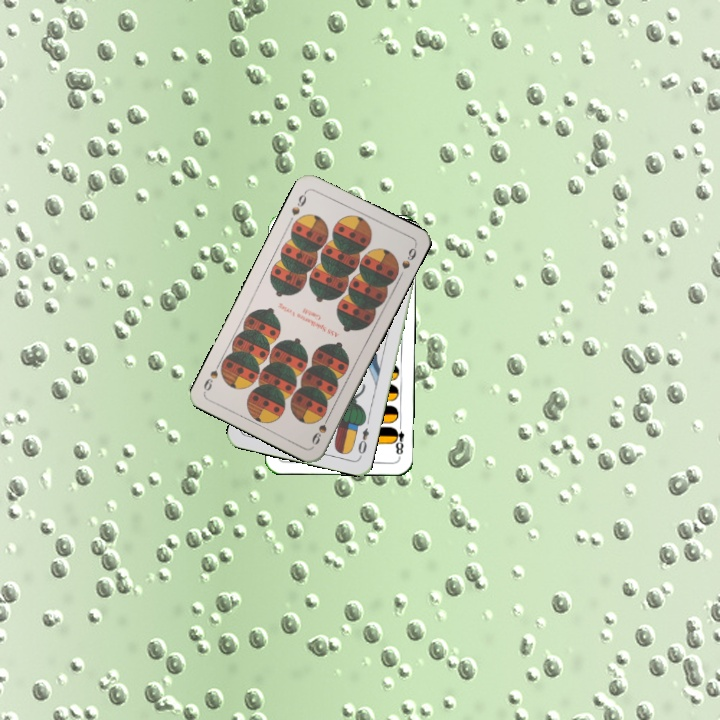E8: (389, 419, 407, 459)
EO: (354, 424, 372, 460)
S9: (307, 410, 333, 447), (287, 187, 309, 218)
